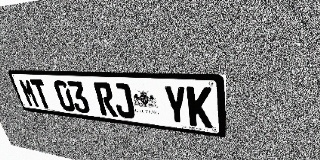0: (52, 80, 76, 112)
3: (67, 81, 91, 114)
J: (111, 83, 136, 119)
K: (186, 86, 213, 128)
M: (18, 78, 40, 108)
R: (93, 82, 118, 117)
T: (30, 79, 53, 109)
Y: (163, 85, 189, 125)
